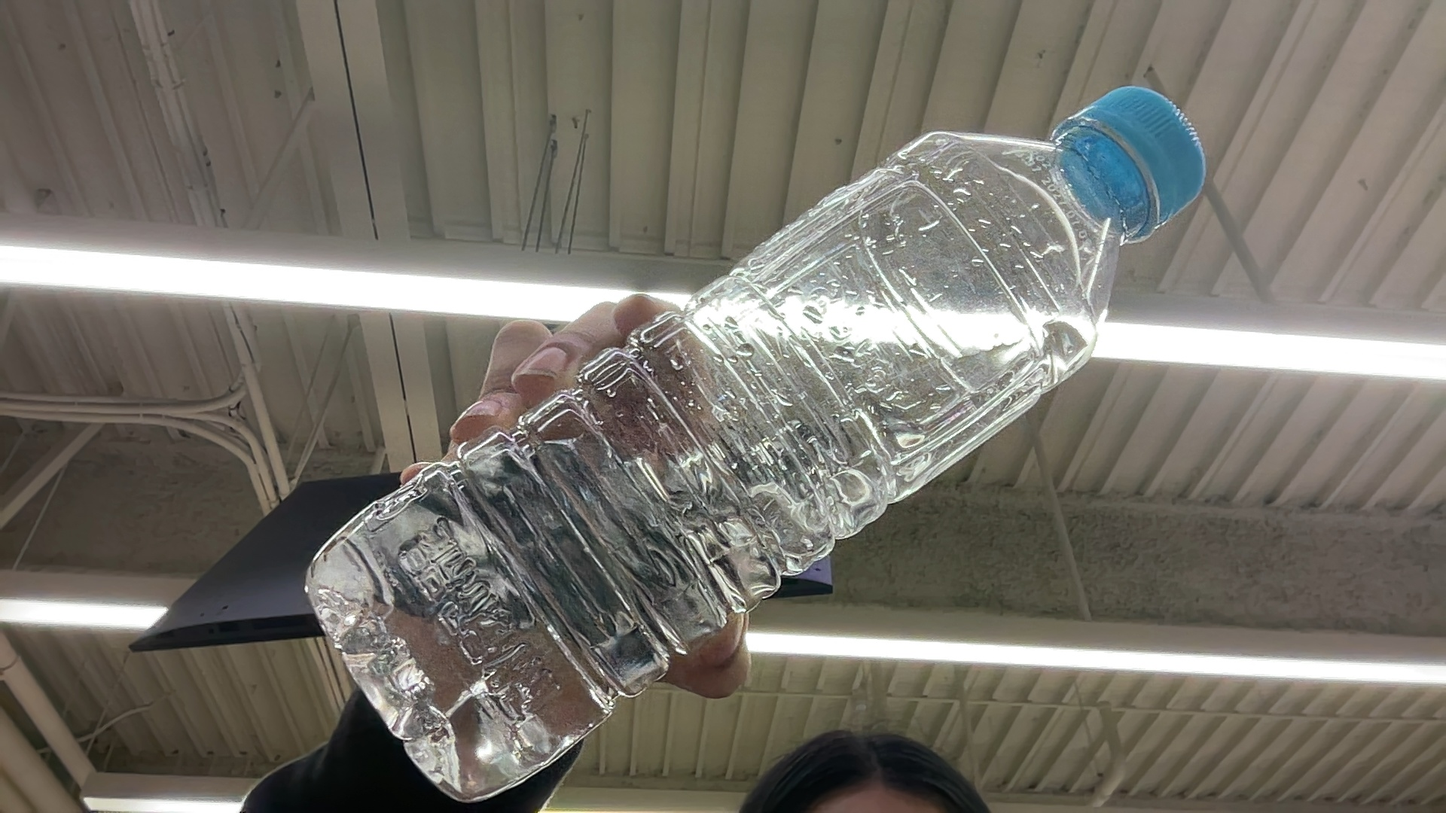Plastic: (1058, 83, 1203, 248)
